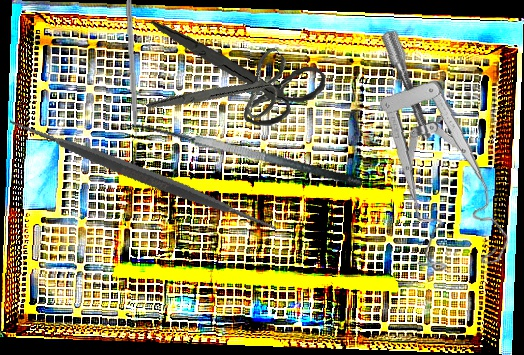Chopper: (117, 0, 140, 146)
Iris Scissors: (144, 10, 304, 171), (150, 4, 330, 137)
Spatula Surgical: (5, 38, 281, 311), (127, 110, 364, 209)
Speculum: (368, 29, 519, 275)
